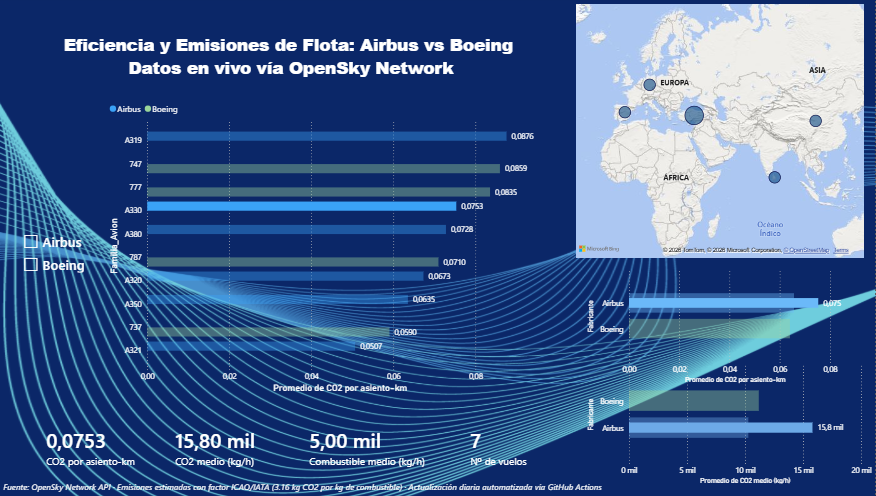

This screenshot's page, from the dashboard's own definition file:
{"tool":"powerbi","page":{"name":"Airbus vs Boeing","canvas":[1400,800],"ordinal":0},"visuals":[{"type":"cardVisual","fields":{"Data":["Avg(flight_efficiency.estimated_co2_kg_h)"]},"box":[251.2,652.8,214.4,136],"z":0},{"type":"cardVisual","fields":{"Data":["Avg(flight_efficiency.estimated_fuel_burn_kg_h)"]},"box":[465.6,651.2,276.8,140.8],"z":1000},{"type":"cardVisual","fields":{"Data":["CountNonNull(flight_efficiency.icao24)"]},"box":[723.2,659.2,235.2,123.2],"z":2000},{"type":"clusteredBarChart","fields":{"Category":["flight_efficiency.manufacturer"],"Y":["Avg(flight_efficiency.estimated_co2_kg_h)"]},"box":[934.4,579.2,465.6,206.4],"z":3000},{"type":"clusteredBarChart","fields":{"Category":["flight_efficiency.Familia_Avion"],"Y":["Avg(flight_efficiency.co2_per_seat_km)"],"Series":["flight_efficiency.manufacturer"]},"box":[169.6,160,700.8,480],"z":4000},{"type":"map","fields":{"Category":["flight_efficiency.origin_country"],"Size":["CountNonNull(flight_efficiency.icao24)"]},"box":[916.2,8.8,471.2,416.2],"z":5000},{"type":"slicer","fields":{"Values":["flight_efficiency.manufacturer"]},"box":[25,370,164,108],"z":6000},{"type":"textbox","box":[25.6,54.4,880,150.4],"z":7000},{"type":"textbox","box":[0,771.2,1297.6,28.8],"z":8000},{"type":"cardVisual","fields":{"Data":["Avg(flight_efficiency.co2_per_seat_km)"]},"box":[44.8,652.8,238.4,136],"z":9000},{"type":"clusteredBarChart","fields":{"Category":["flight_efficiency.manufacturer"],"Y":["Avg(flight_efficiency.co2_per_seat_km)"]},"box":[935,425,428.8,198.8],"z":10000}]}

Visuals, with their boxes in screenshot pixels (x1, y1, x2, y2), scaled from the page's 1400x800 canvas onto the 876x496 screenshot:
cardVisual - Avg(flight_efficiency.estimated_co2_kg_h): crop(157, 405, 291, 489)
cardVisual - Avg(flight_efficiency.estimated_fuel_burn_kg_h): crop(291, 404, 465, 491)
cardVisual - CountNonNull(flight_efficiency.icao24): crop(453, 409, 600, 485)
clusteredBarChart - flight_efficiency.manufacturer x Avg(flight_efficiency.estimated_co2_kg_h): crop(585, 359, 875, 487)
clusteredBarChart - flight_efficiency.Familia_Avion x Avg(flight_efficiency.co2_per_seat_km): crop(106, 99, 545, 397)
map - flight_efficiency.origin_country x CountNonNull(flight_efficiency.icao24): crop(573, 5, 868, 264)
slicer - flight_efficiency.manufacturer: crop(16, 229, 118, 296)
textbox: crop(16, 34, 567, 127)
textbox: crop(0, 478, 812, 495)
cardVisual - Avg(flight_efficiency.co2_per_seat_km): crop(28, 405, 177, 489)
clusteredBarChart - flight_efficiency.manufacturer x Avg(flight_efficiency.co2_per_seat_km): crop(585, 264, 853, 387)
